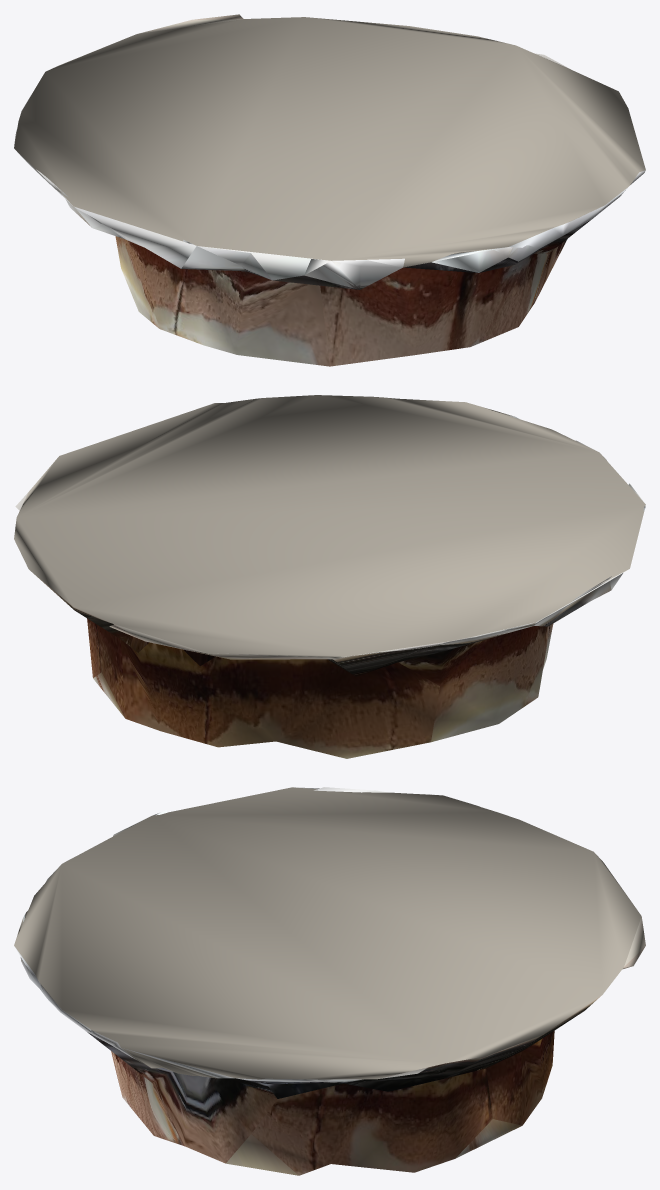
File: cake_358.obj
3 renders of one model, top to bottom at view 1: azimuth 30°, elevation 25°; view 2: azimuth 150°, elevation 25°; view 3: azimuth 270°, elevation 25°, orthographic. The views are drawn at different scales.
Size of the model in its own units: 0.1784 by 0.051 by 0.1765.
Materials: 1 (1 with a texture image).
